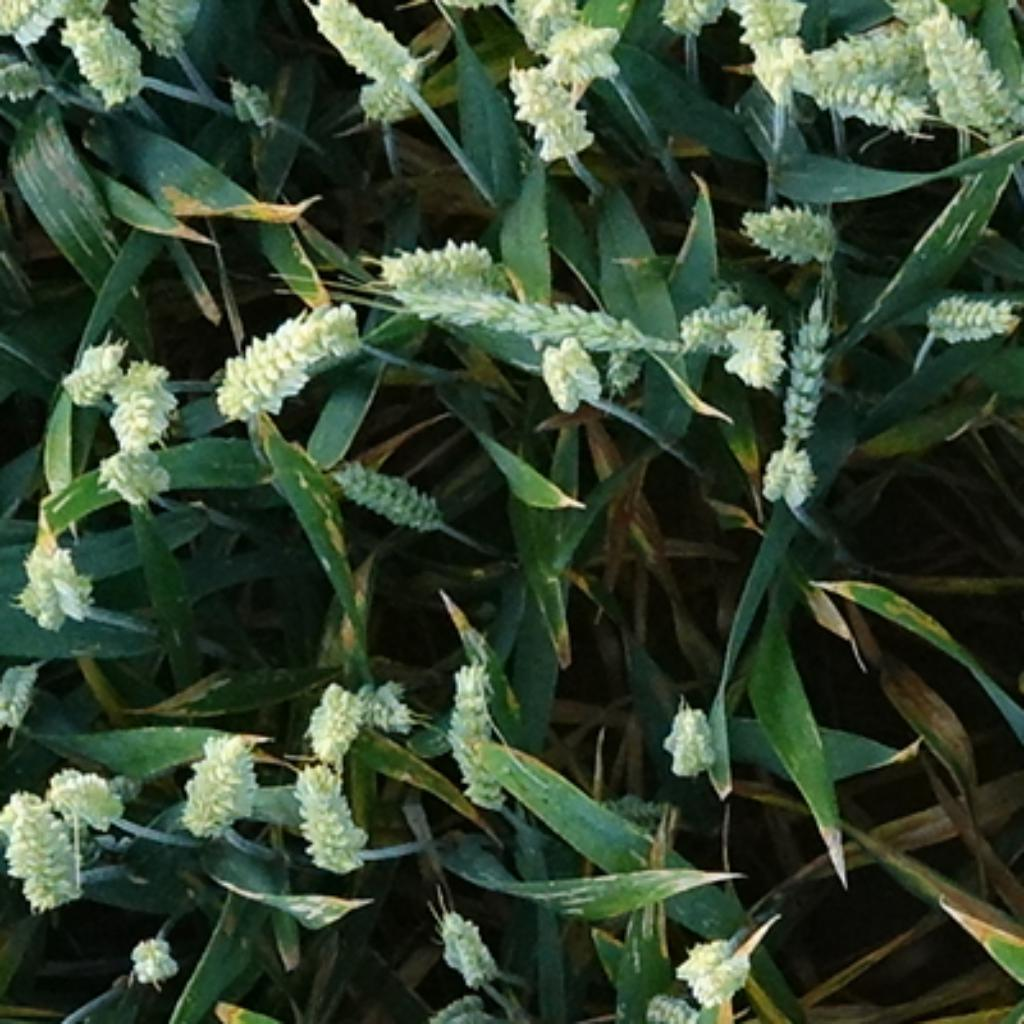0-0: (399, 273, 678, 358), (204, 281, 371, 417), (376, 225, 540, 335), (887, 0, 1007, 130), (437, 647, 517, 806), (0, 783, 87, 911), (796, 64, 942, 138), (327, 453, 455, 537), (174, 719, 266, 832), (304, 2, 422, 84), (289, 752, 373, 865), (778, 302, 842, 442), (806, 10, 926, 84), (58, 2, 148, 97), (504, 53, 593, 148), (15, 524, 99, 622), (99, 350, 179, 448), (724, 2, 814, 84), (737, 189, 842, 258), (299, 670, 386, 752), (673, 284, 765, 360), (721, 296, 791, 394), (675, 921, 760, 1000), (916, 279, 1024, 340), (430, 906, 501, 990), (657, 688, 729, 770), (532, 327, 609, 401), (94, 432, 176, 499), (56, 325, 128, 401), (537, 10, 622, 74), (45, 773, 127, 835), (340, 670, 414, 734), (353, 56, 427, 115), (752, 430, 816, 496), (496, 2, 586, 46), (414, 980, 499, 1024), (122, 921, 184, 980), (2, 53, 61, 115), (220, 66, 279, 125), (125, 2, 192, 53), (637, 977, 704, 1024), (2, 652, 43, 724), (596, 791, 680, 826), (5, 2, 76, 43), (988, 61, 1024, 133), (601, 348, 645, 404), (655, 2, 734, 33)
